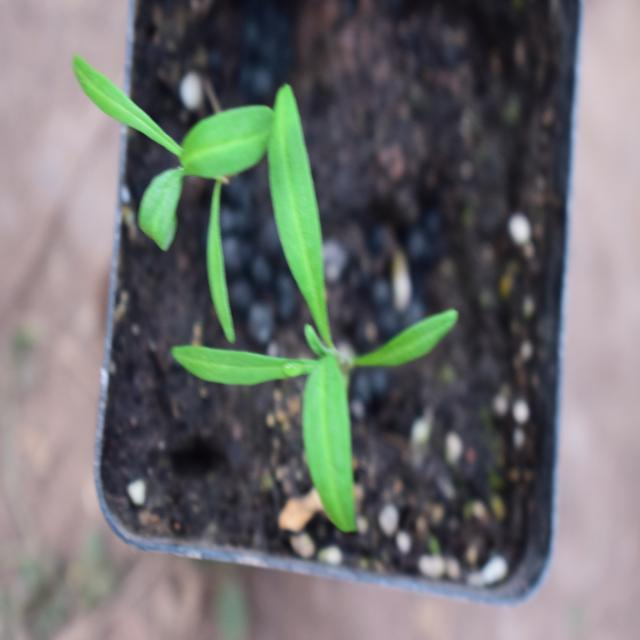white_smart_weed: (225, 74, 431, 520)
